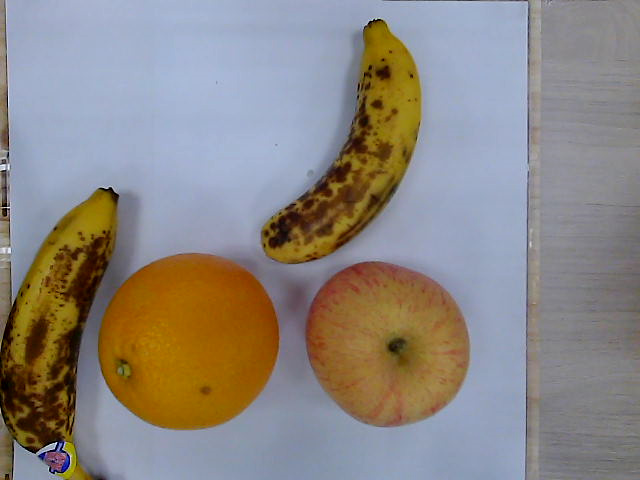fresh_apple: (308, 261, 471, 428)
fresh_orange: (98, 251, 281, 431)
rotten_banana: (259, 19, 422, 263), (1, 186, 117, 480)
